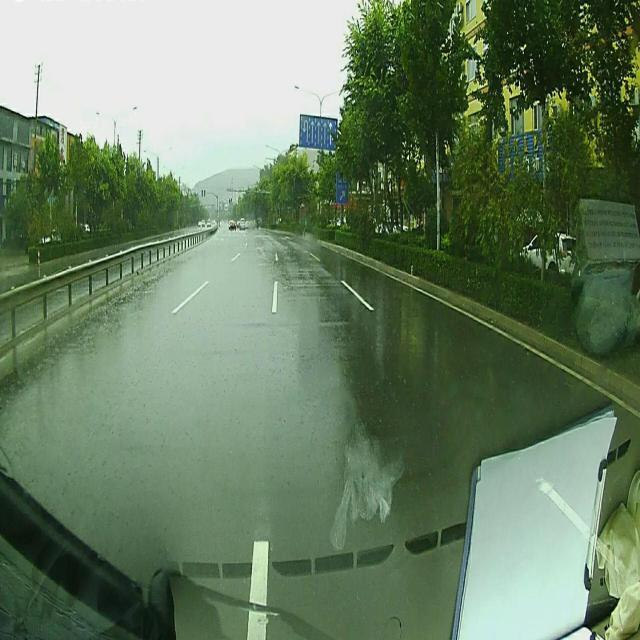car: (520, 230, 580, 278), (229, 218, 236, 231), (240, 217, 246, 228)
